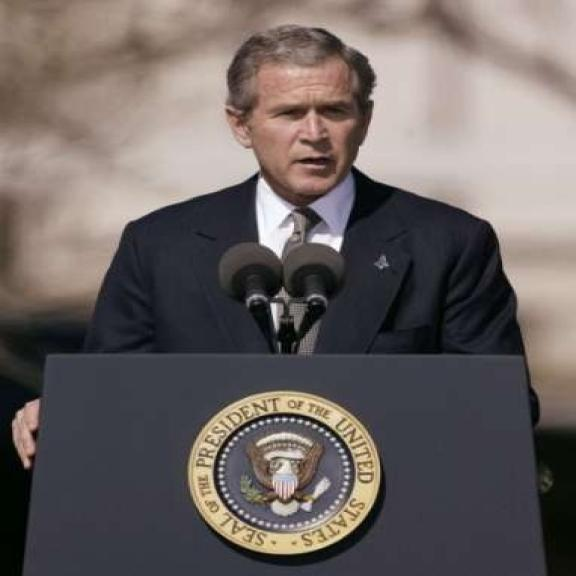face: (223, 53, 381, 197)
